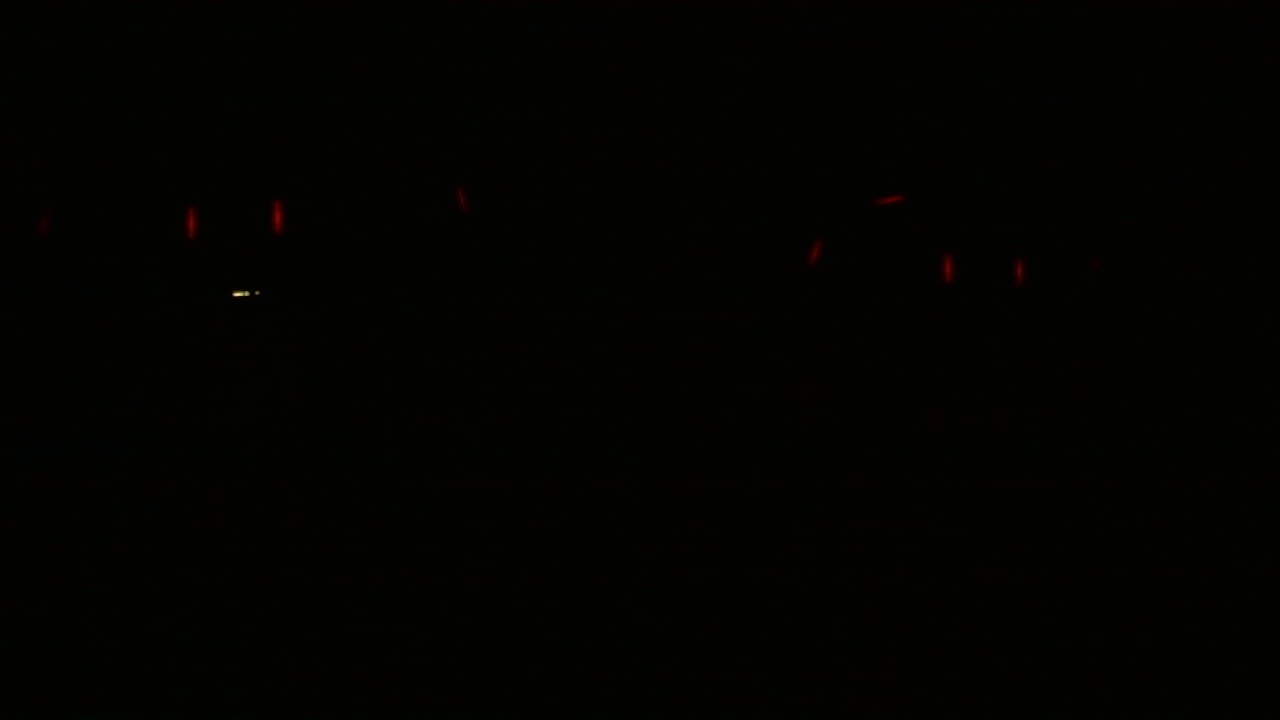pair1: (171, 202, 290, 237), (939, 249, 1027, 294)
